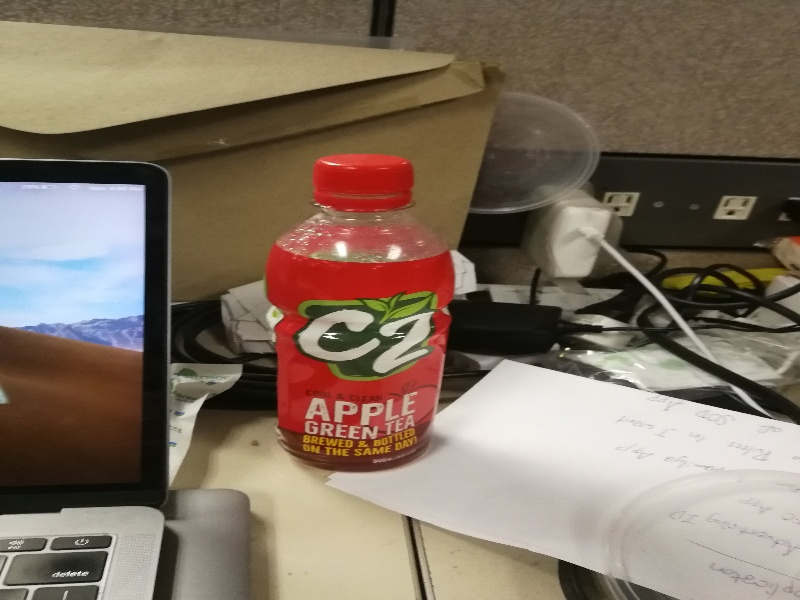PET #1: (265, 149, 455, 470)
